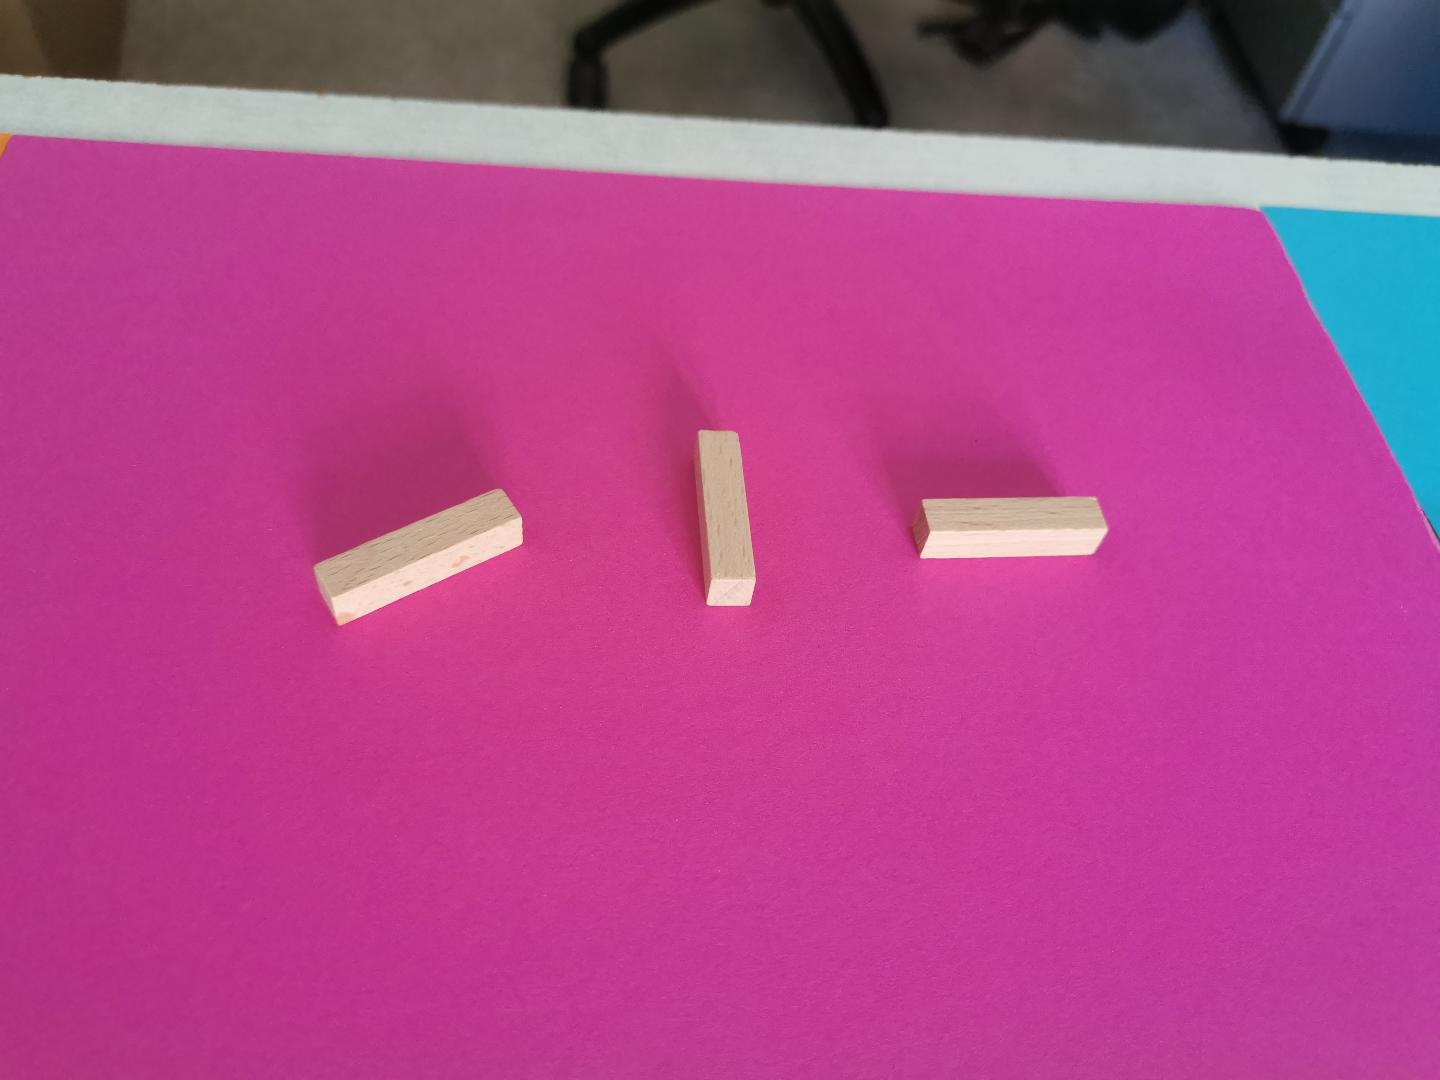jenga: (315, 489, 523, 624), (914, 498, 1108, 559), (695, 430, 756, 605)
